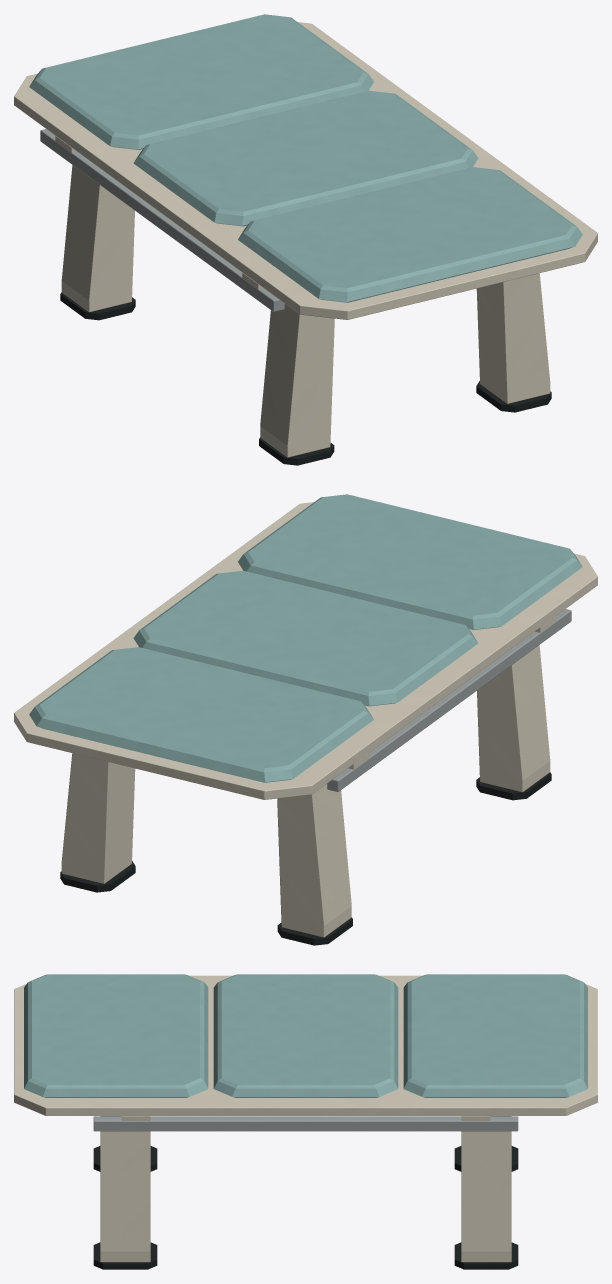
Rendered from AST-MED-003.glb.
3 views of the same model, one above another, from view 1: azimuth 30°, elevation 25°; view 2: azimuth 150°, elevation 25°; view 3: azimuth 270°, elevation 25° (orthographic). The views are drawn at different scales.
Visible parts, largest first — view 1: AST-MED-003__care_soft_pad, AST-MED-003__ivory_enamel, AST-MED-003__care_brushed_metal, AST-MED-003__dark_rubber; view 2: AST-MED-003__care_soft_pad, AST-MED-003__ivory_enamel, AST-MED-003__care_brushed_metal, AST-MED-003__dark_rubber; view 3: AST-MED-003__care_soft_pad, AST-MED-003__ivory_enamel, AST-MED-003__care_brushed_metal, AST-MED-003__dark_rubber.
Boxes of the visible parts, x1,y1,x2,y2 form: AST-MED-003__care_soft_pad: (29,14,582,302); AST-MED-003__ivory_enamel: (14,22,597,457); AST-MED-003__care_brushed_metal: (40,129,284,311); AST-MED-003__dark_rubber: (60,292,551,465); AST-MED-003__care_soft_pad: (29,494,582,782); AST-MED-003__ivory_enamel: (14,502,597,937); AST-MED-003__care_brushed_metal: (327,609,571,791); AST-MED-003__dark_rubber: (60,772,551,945); AST-MED-003__care_soft_pad: (24,974,587,1097); AST-MED-003__ivory_enamel: (14,975,597,1262); AST-MED-003__care_brushed_metal: (93,1116,518,1131); AST-MED-003__dark_rubber: (93,1146,518,1269).
Size of the model in its own units: 1.18 by 0.75 by 2.2.
Materials: 4 (4 with a texture image).
